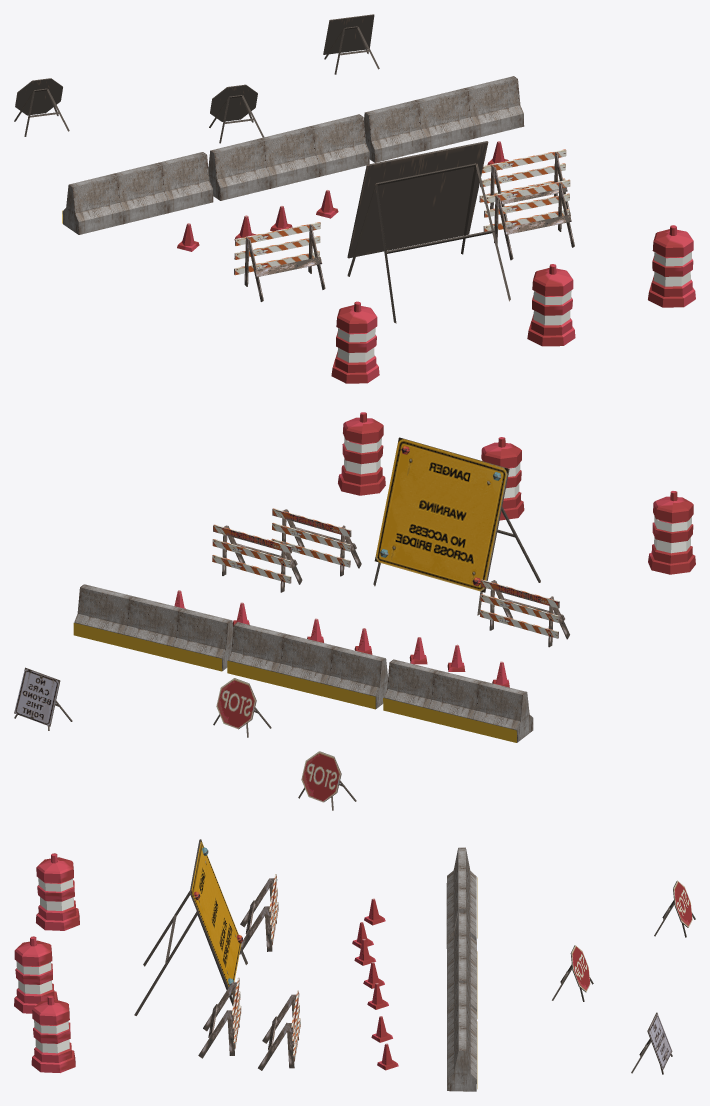
File: cn2_roadblock01ld.obj
3 renders of one model, top to bottom at view 1: azimuth 30°, elevation 25°; view 2: azimuth 150°, elevation 25°; view 3: azimuth 270°, elevation 25°, orthographic. The views are drawn at different scales.
Visible parts, largest first — view 1: cn2_roadblock01ld; view 2: cn2_roadblock01ld; view 3: cn2_roadblock01ld.
Boxes of the visible parts, left/top/right/bottom form: cn2_roadblock01ld: left=14, top=14, right=695, bottom=383; cn2_roadblock01ld: left=14, top=412, right=695, bottom=810; cn2_roadblock01ld: left=14, top=839, right=695, bottom=1091.
Bounding box in the file's own units: 14.24 × 4.19 × 20.22.
4 materials, 4 textured.
